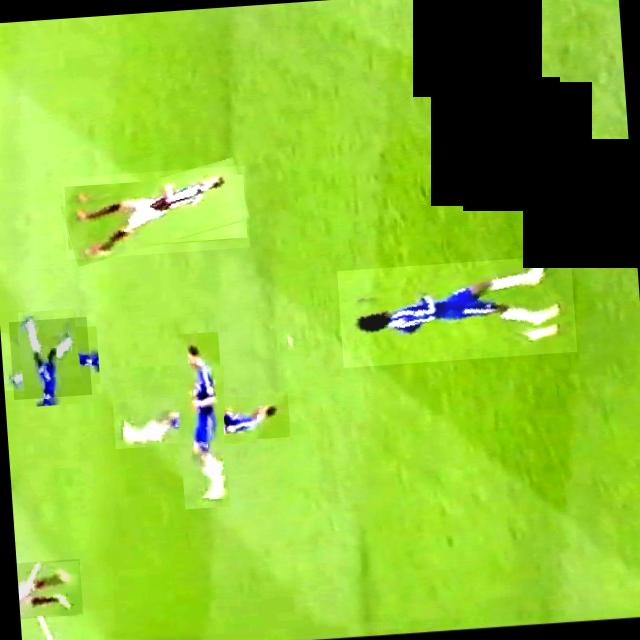soccer-player: (336, 254, 576, 366), (61, 164, 250, 258), (140, 358, 262, 480), (8, 316, 92, 398), (16, 558, 83, 618)
